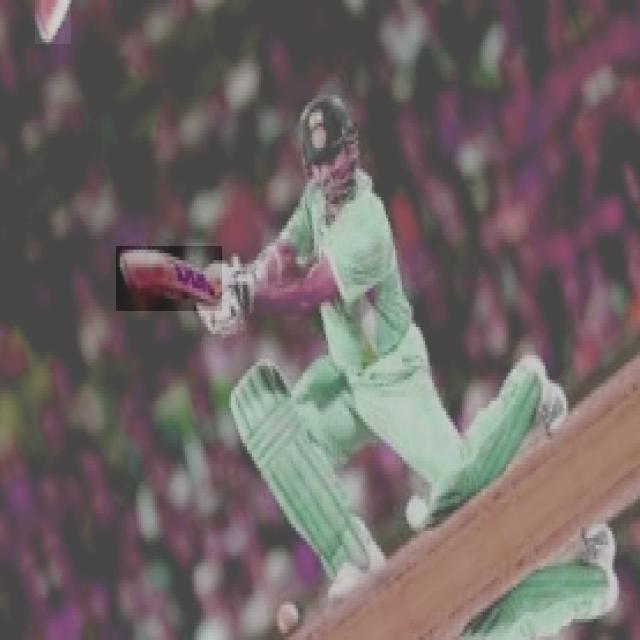bat: (113, 245, 225, 313)
toe: (114, 249, 135, 292)
